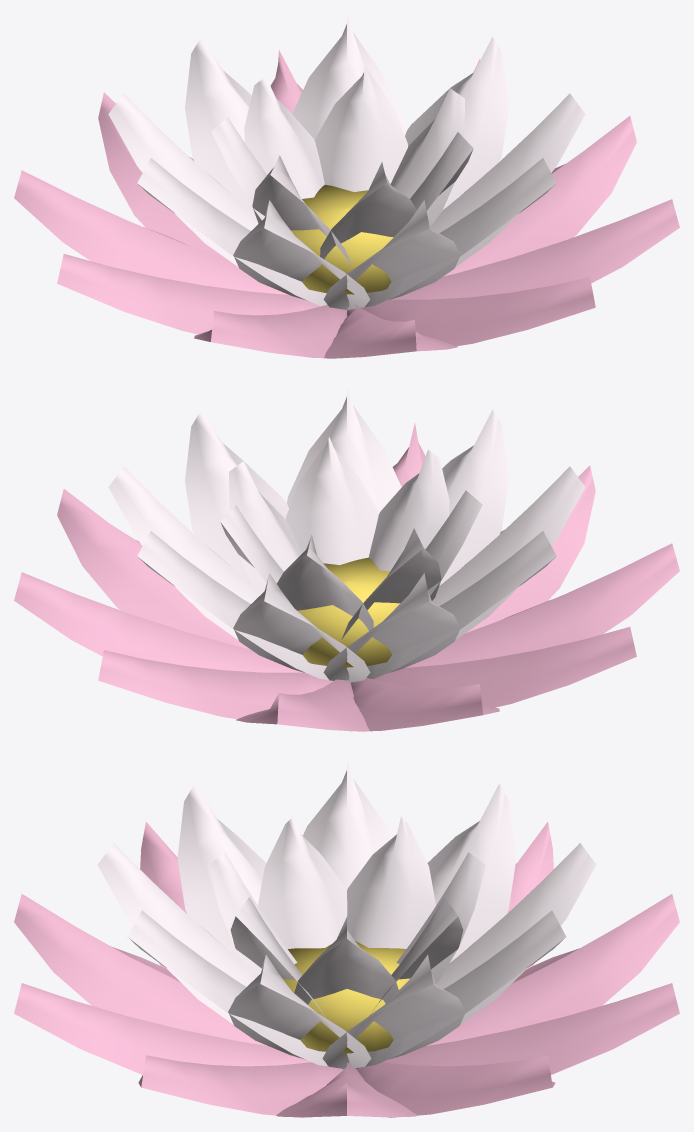
File: seerose_bluete.glb
3 renders of one model, top to bottom at view 1: azimuth 30°, elevation 25°; view 2: azimuth 150°, elevation 25°; view 3: azimuth 270°, elevation 25°, orthographic. The views are drawn at different scales.
Parts seen in each view (by area): view 1: seerose_bluete_lod0; view 2: seerose_bluete_lod0; view 3: seerose_bluete_lod0.
Part boxes in pixels (left/top/right/bottom): seerose_bluete_lod0: left=14, top=15, right=679, bottom=358; seerose_bluete_lod0: left=14, top=388, right=679, bottom=731; seerose_bluete_lod0: left=14, top=761, right=679, bottom=1117.
Size of what is drawn, in the model's own units: 1.92 by 0.6848 by 1.82.
